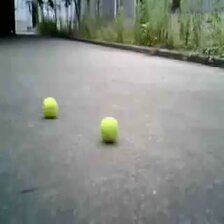tennis: (100, 116, 116, 141), (43, 95, 59, 116)
